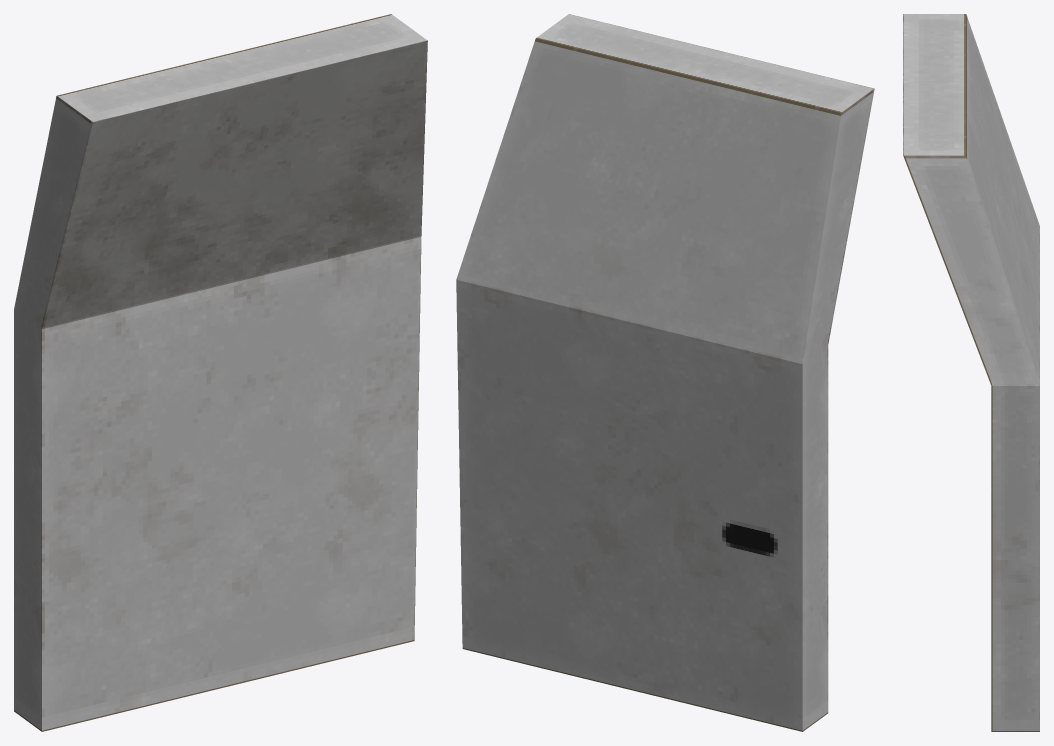
Rendered from Door.glb.
3 renders of one model, left to right at view 1: azimuth 30°, elevation 25°; view 2: azimuth 150°, elevation 25°; view 3: azimuth 270°, elevation 25°, orthographic. The views are drawn at different scales.
Visible parts, largest first — view 1: pCube2; view 2: pCube2; view 3: pCube2.
Boxes of the visible parts, x1,y1,x2,y2 form: pCube2: [14, 14, 427, 731]; pCube2: [456, 14, 874, 731]; pCube2: [903, 14, 1039, 731].
Size of the model in its own units: 1.02 by 1.66 by 0.3671.
Materials: 1 (1 with a texture image).
